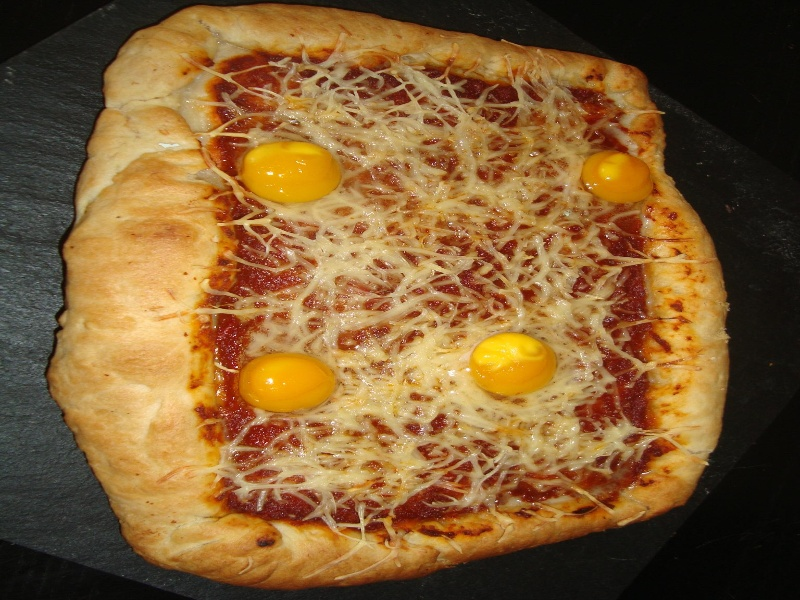oeuf: (233, 347, 358, 427), (229, 134, 350, 208), (458, 328, 565, 405), (574, 144, 661, 215)
